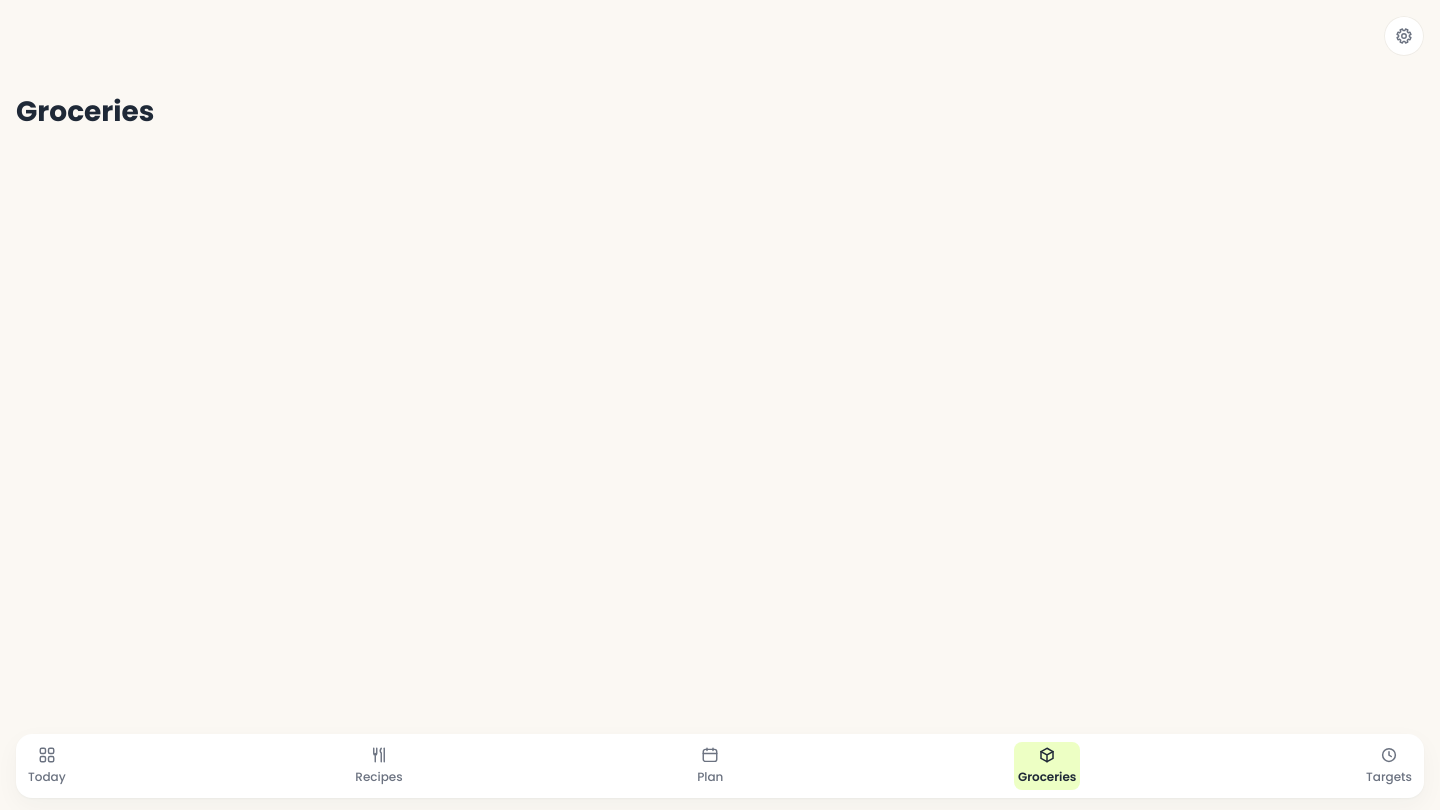
Scenario: App settings (SPEC-008) › opens the dialog and loads settings from GET /api/settings (wide: false)
Click the button named "Settings": {"x": 1404, "y": 36} [1384,16,1424,56]
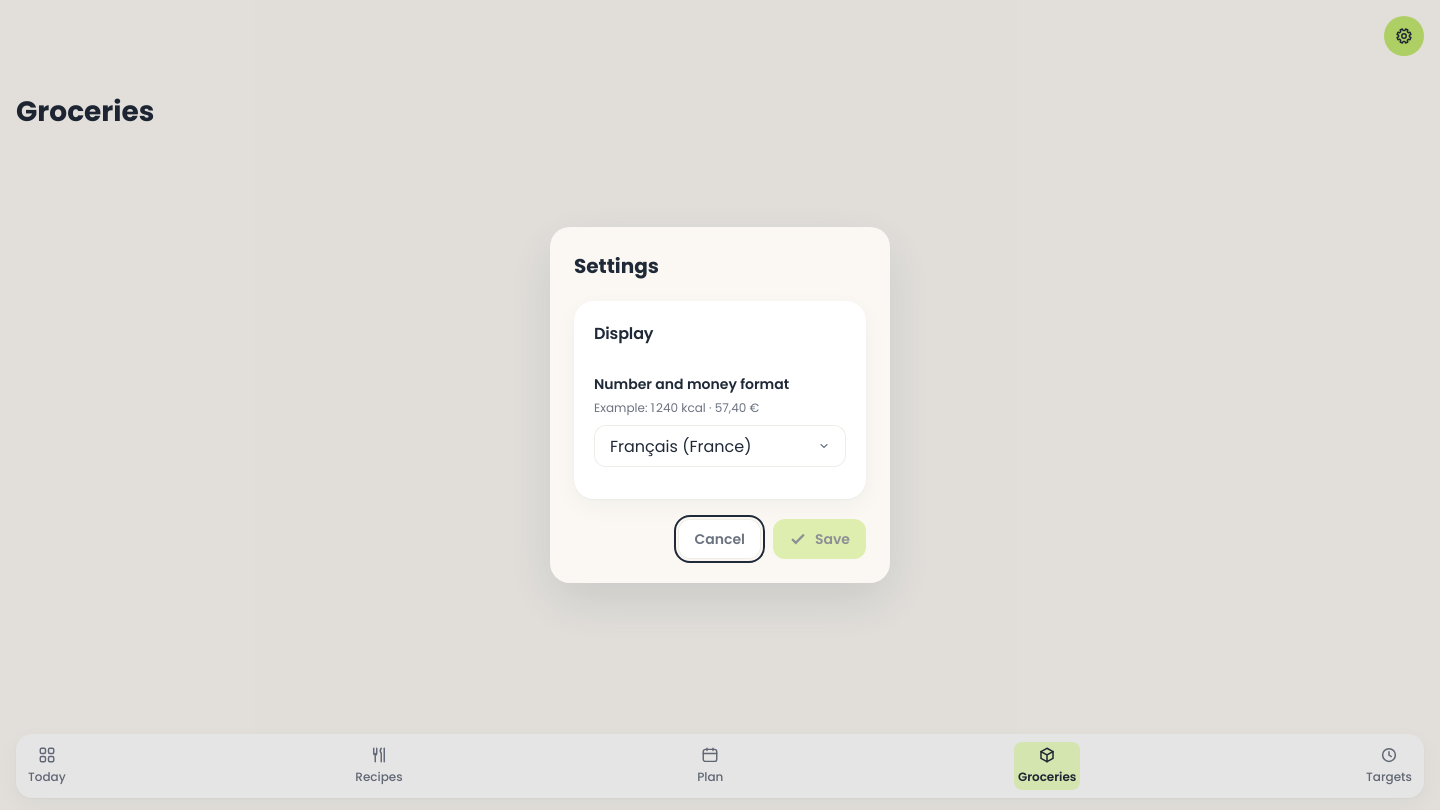
Result: the dialog "Settings" is shown at [550,227,890,583]
Result: the button named "Settings" is expanded at [1384,16,1424,56]
Result: the dropdown labelled "Number and money format" shows "Français (France)" at [594,425,846,467]
